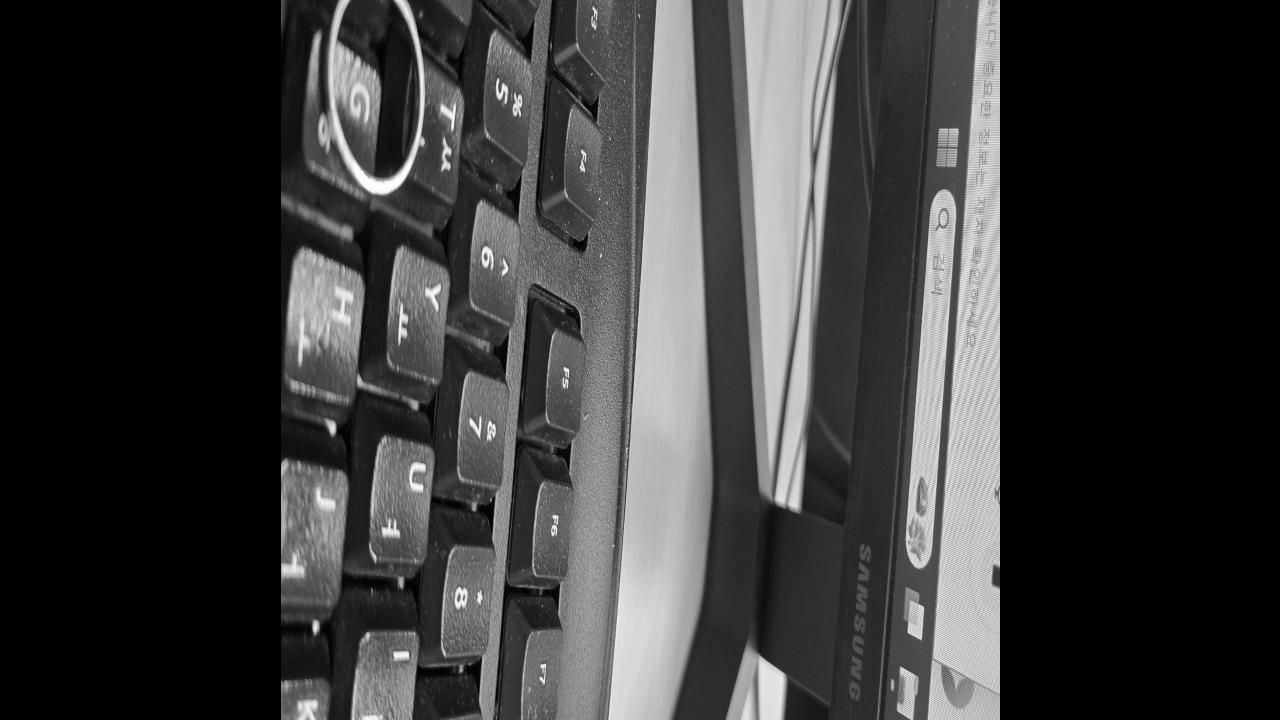ring: (319, 0, 425, 199)
